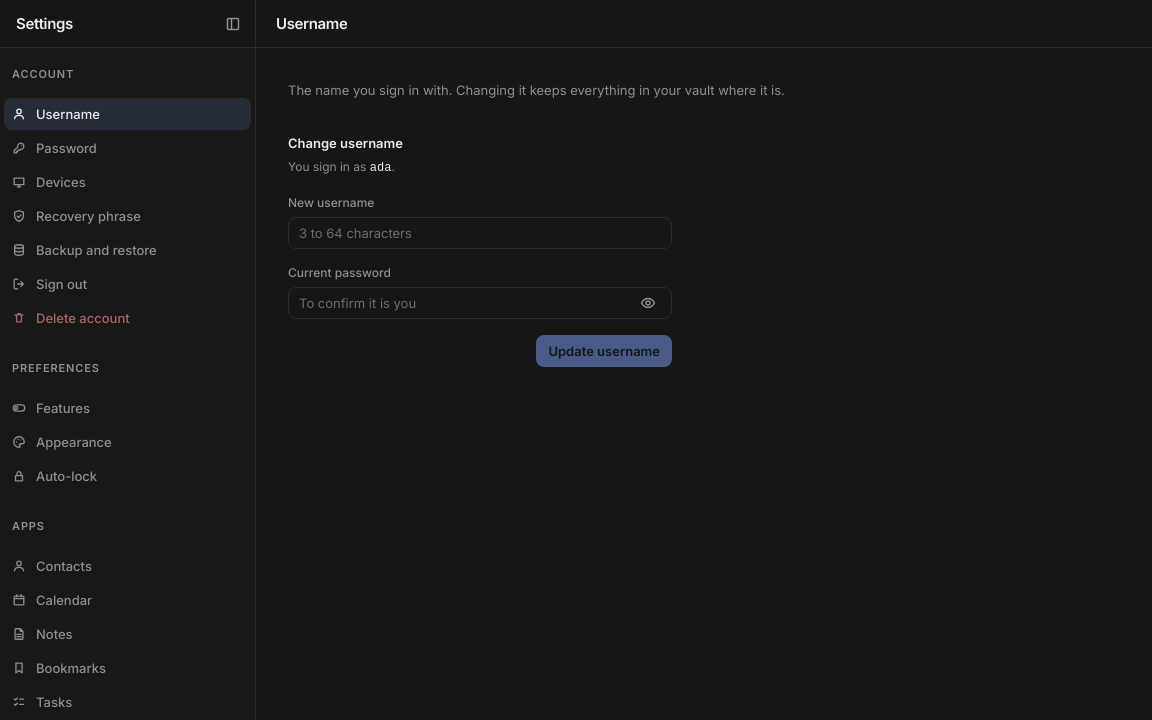
Test: changing the password › refuses one shorter than the minimum
Click the button "Password" at (128,148), box [4, 132, 251, 164]
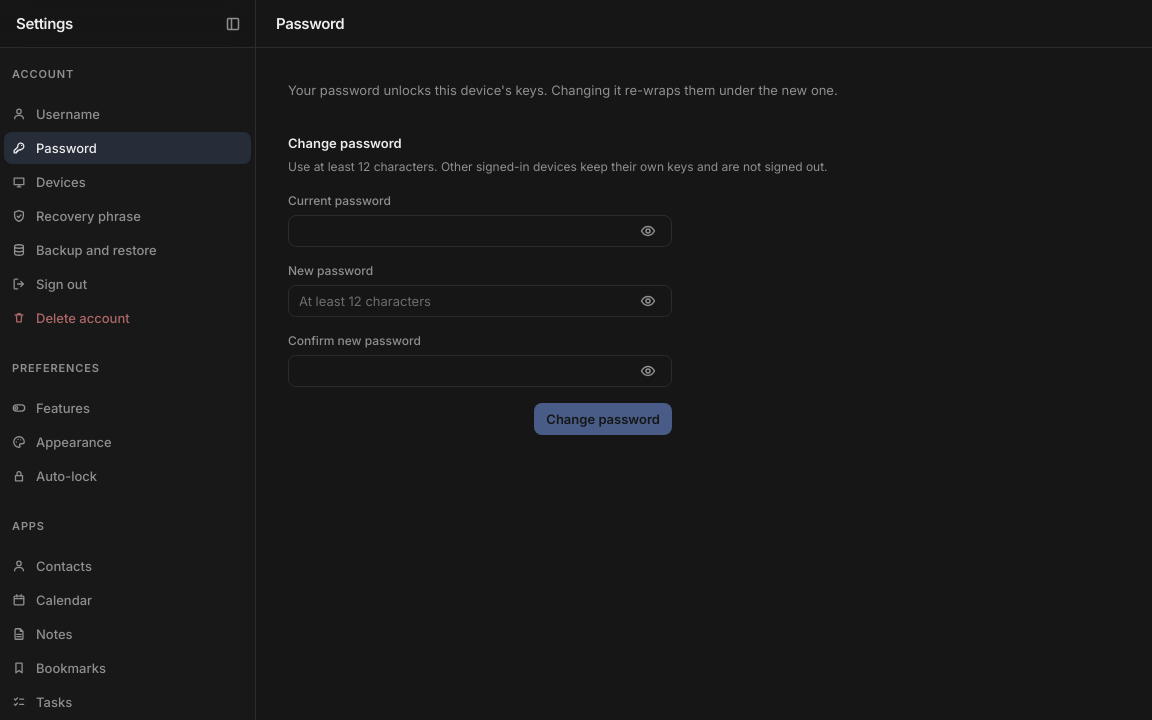
Type "correct horse battery" into the password field labelled "Current password" at (480,231), box [288, 215, 672, 247]
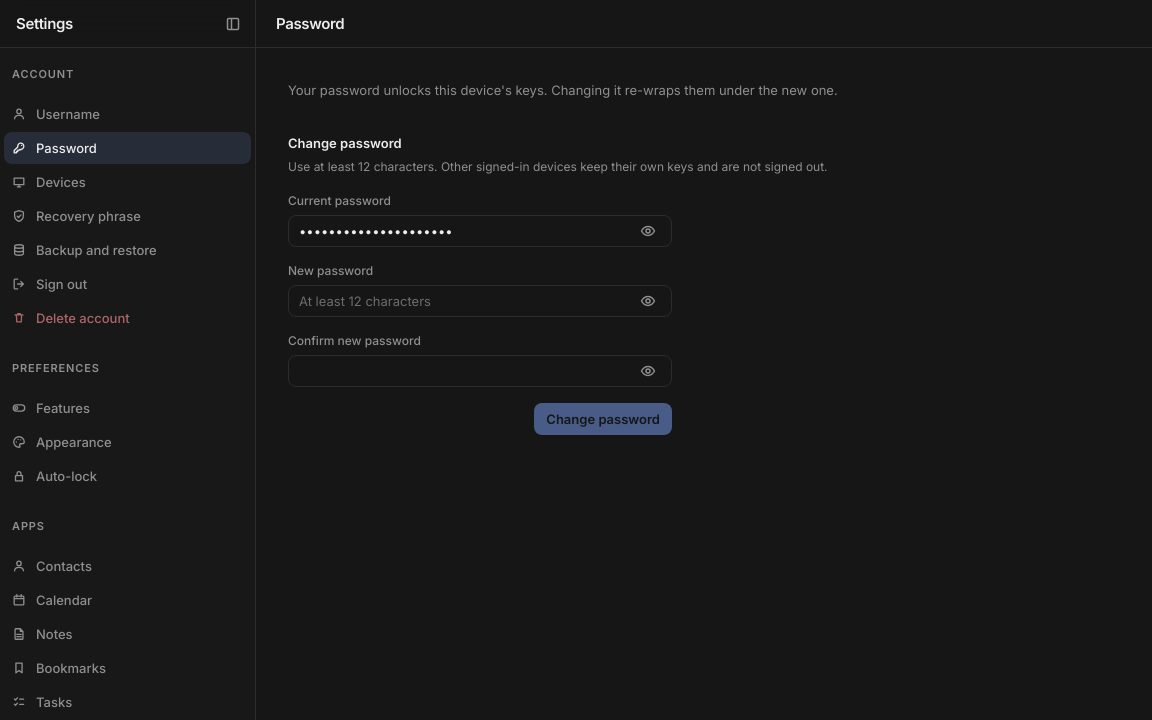
Type "short" into the password field labelled "New password" at (480,301), box [288, 285, 672, 317]
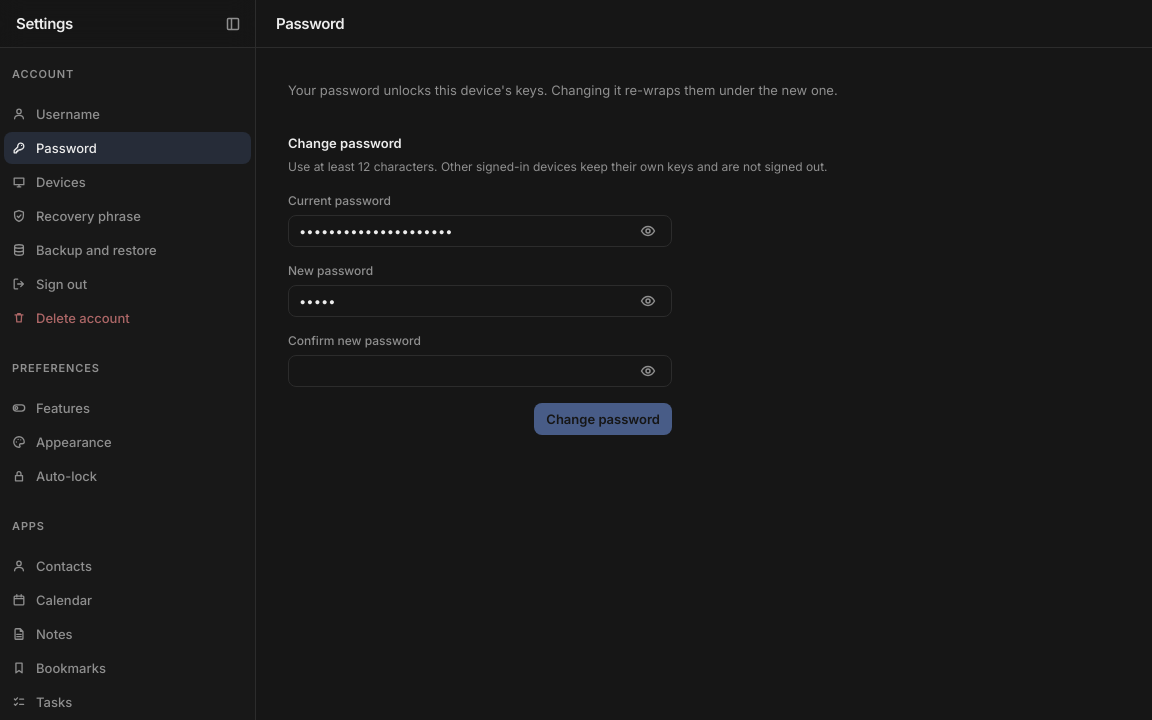
Type "short" into the password field labelled "Confirm new password" at (480,371), box [288, 355, 672, 387]
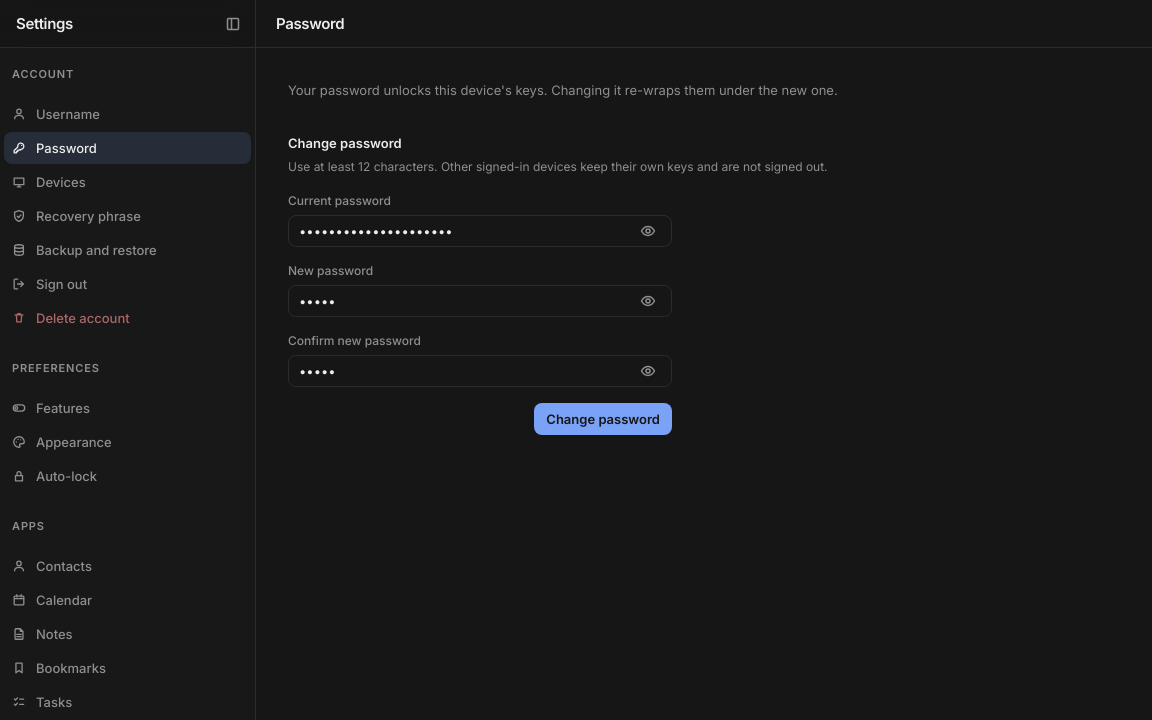
Click the button "Change password" at (603,419), box [534, 403, 672, 435]
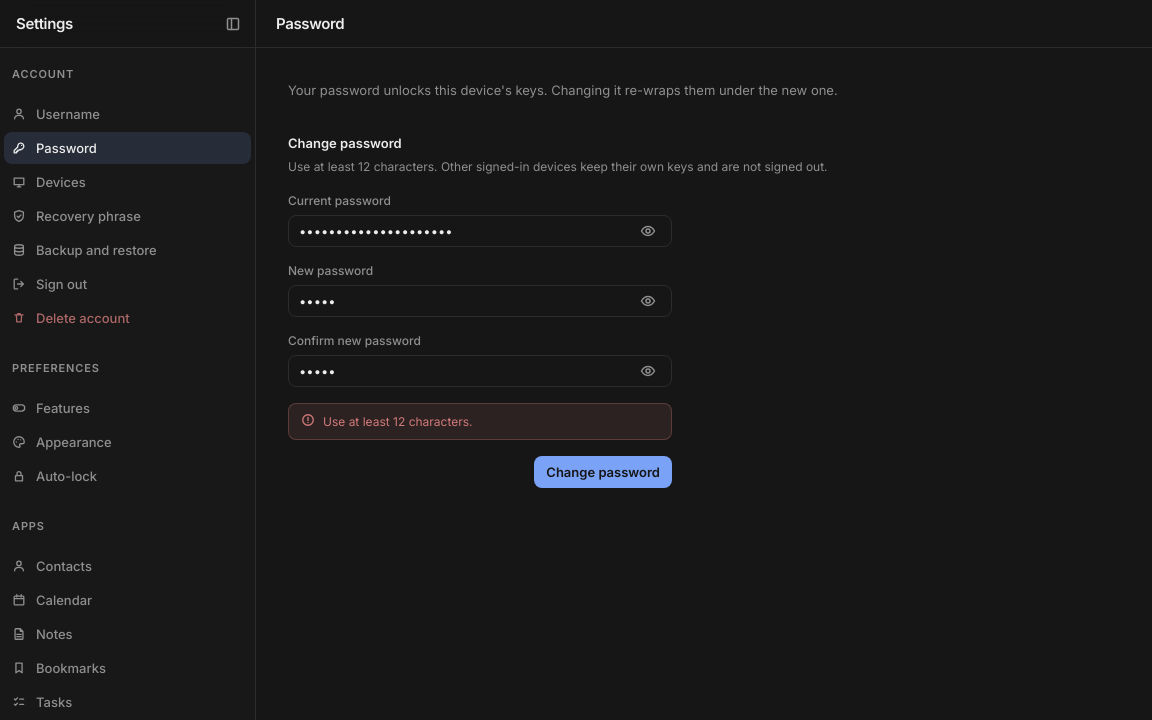
Result: the text "Use at least 12 characters." is shown at [323, 412, 473, 431]
